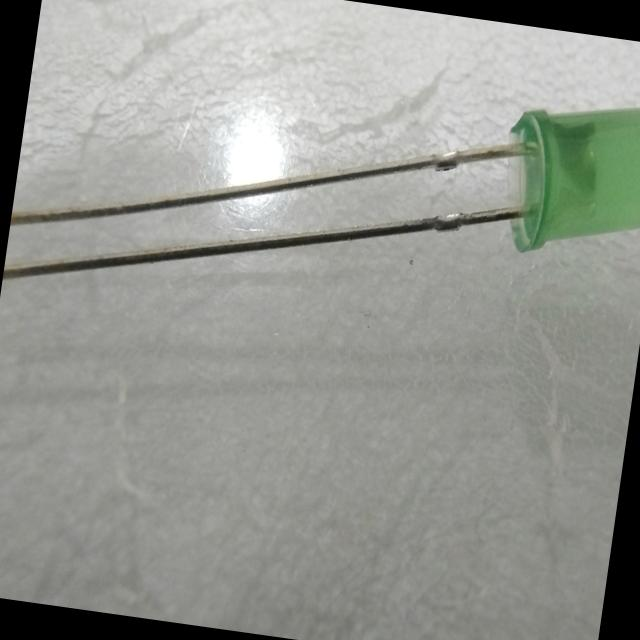green_led: (486, 71, 640, 273)
